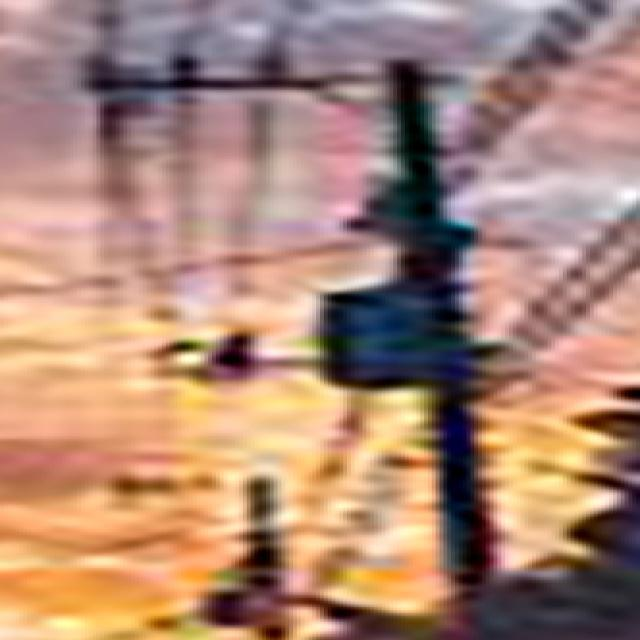pole: (51, 44, 520, 629)
